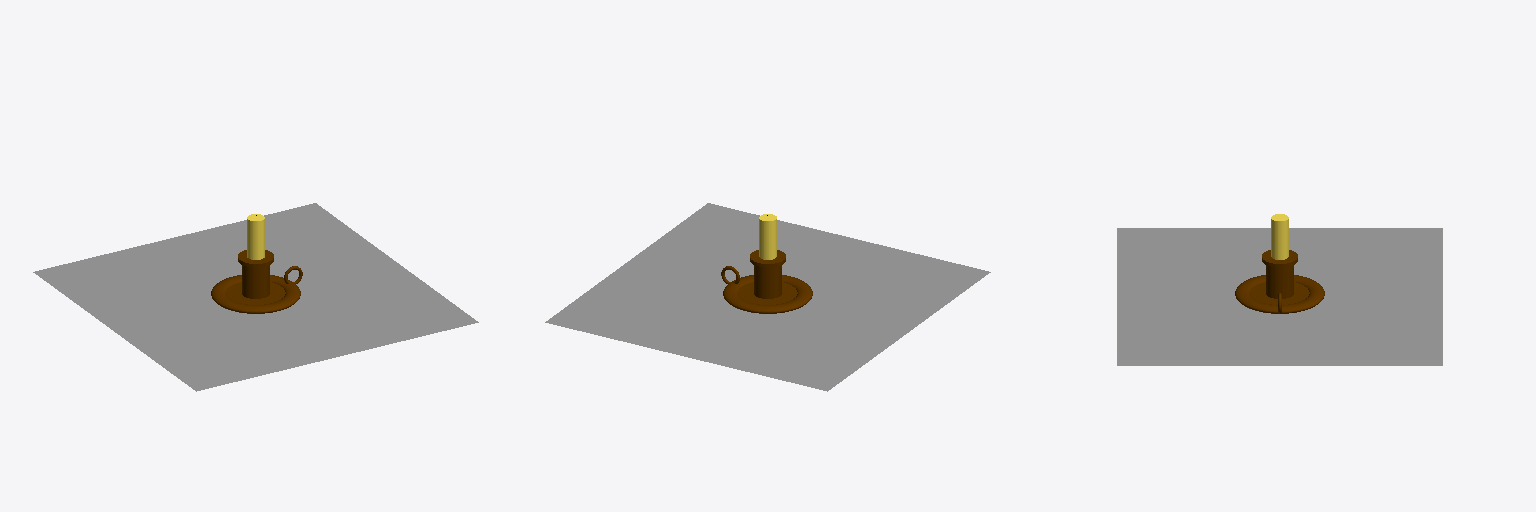
Rendered from CandleStick.obj.
3 views of the same model, side by side, from view 1: azimuth 30°, elevation 25°; view 2: azimuth 150°, elevation 25°; view 3: azimuth 270°, elevation 25° (orthographic).
Visible parts, largest first — view 1: Plane, Torus, Cylinder.002, Cylinder, Cylinder.001; view 2: Plane, Torus, Cylinder.002, Cylinder, Cylinder.001; view 3: Plane, Torus, Cylinder.002, Cylinder, Cylinder.001.
Boxes of the visible parts, x1,y1,x2,y2 form: Plane: [33, 203, 478, 391]; Torus: [211, 275, 300, 313]; Cylinder.002: [242, 265, 269, 298]; Cylinder: [247, 214, 264, 259]; Cylinder.001: [226, 282, 285, 304]; Plane: [545, 203, 990, 391]; Torus: [723, 275, 812, 313]; Cylinder.002: [754, 265, 781, 298]; Cylinder: [759, 214, 776, 259]; Cylinder.001: [738, 282, 797, 304]; Plane: [1117, 228, 1442, 365]; Torus: [1235, 275, 1324, 313]; Cylinder.002: [1266, 265, 1293, 298]; Cylinder: [1271, 214, 1288, 259]; Cylinder.001: [1250, 282, 1309, 304].
Bounding box in the file's own units: 19.61 × 5.46 × 19.61.